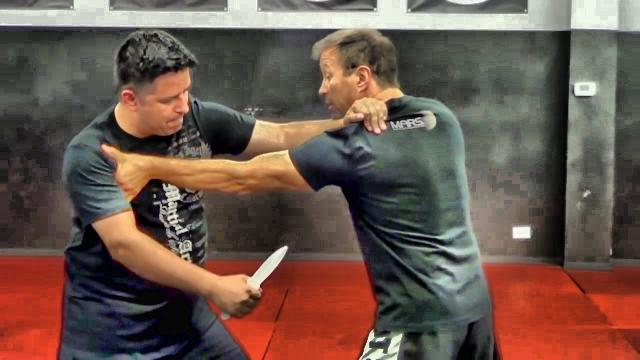knife: (214, 241, 290, 323)
